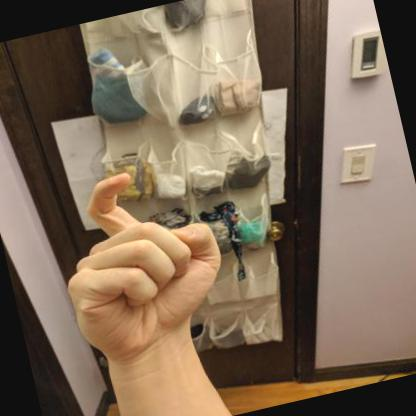X: (68, 173, 221, 361)
